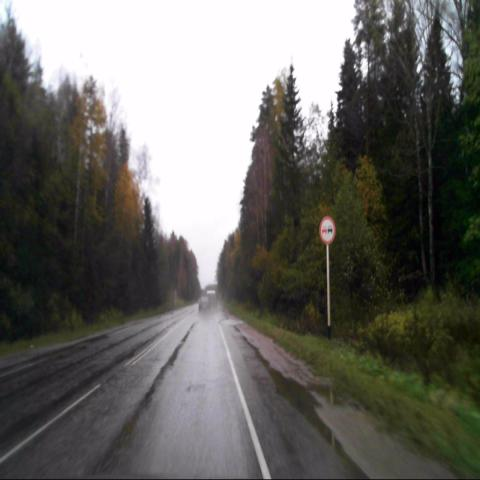3_20: (319, 216, 336, 243)
